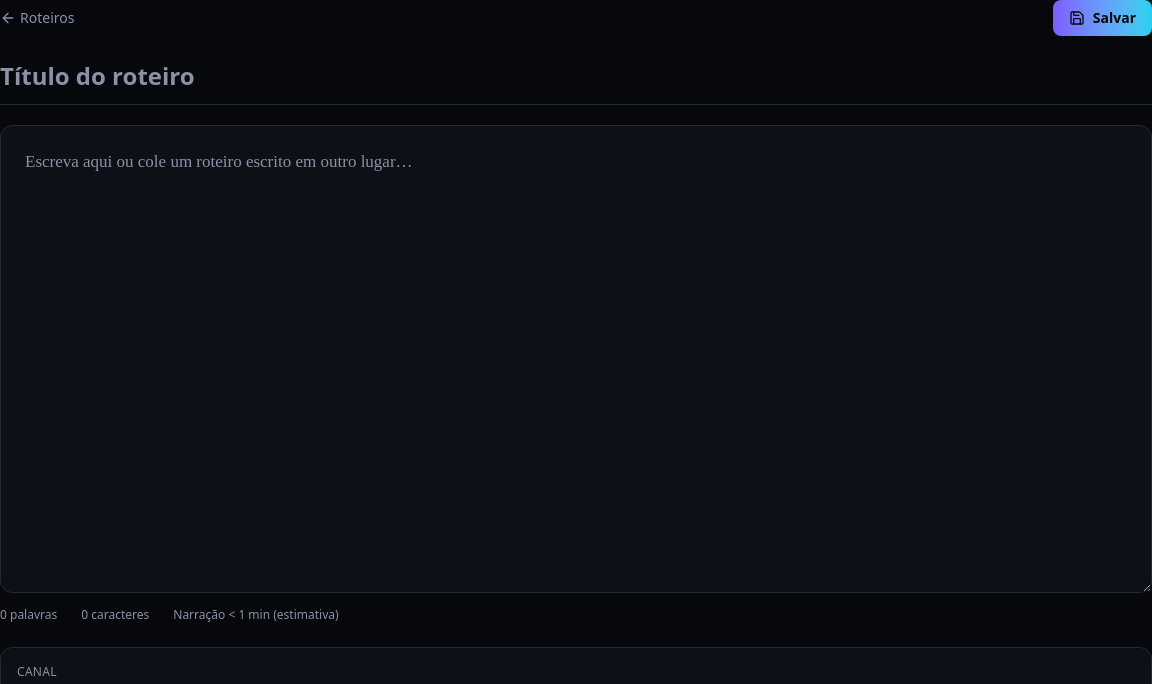
Test: ScriptEditor › impede aprovar roteiro vazio
Type "Vazio" into the field labelled "Título" at (576, 82), box [0,60,1151,105]
(page scrolled)
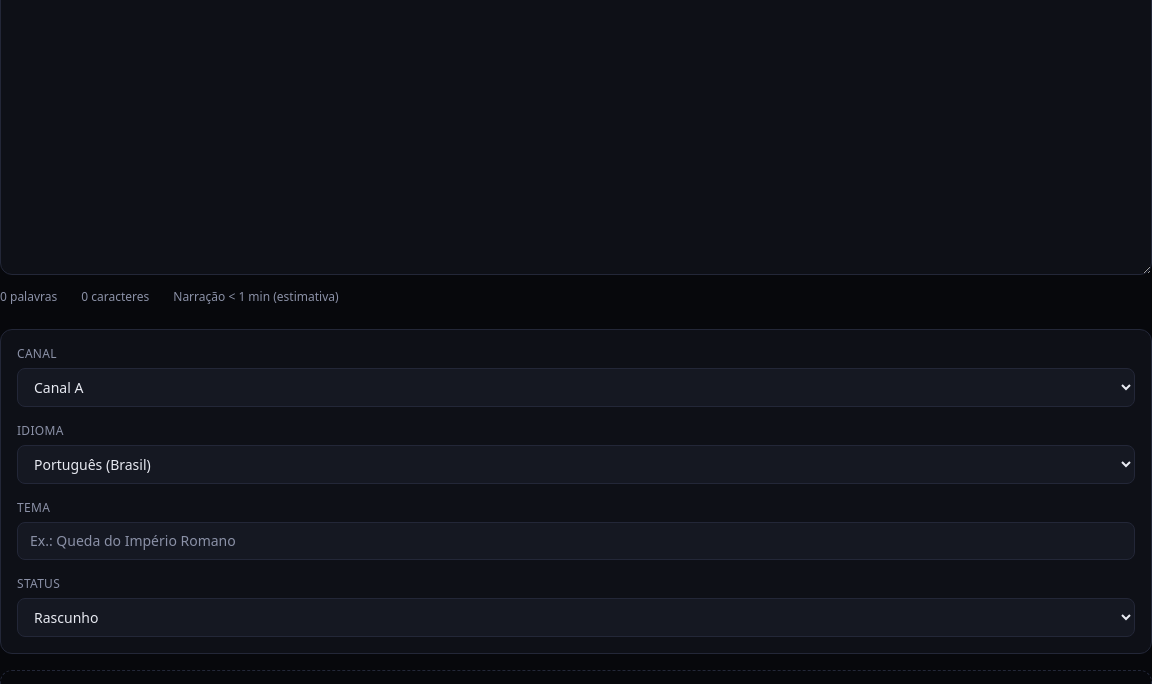
Select "Aprovado" in the dropdown labelled "Status" at (576, 618), box [17,598,1135,637]
(page scrolled)
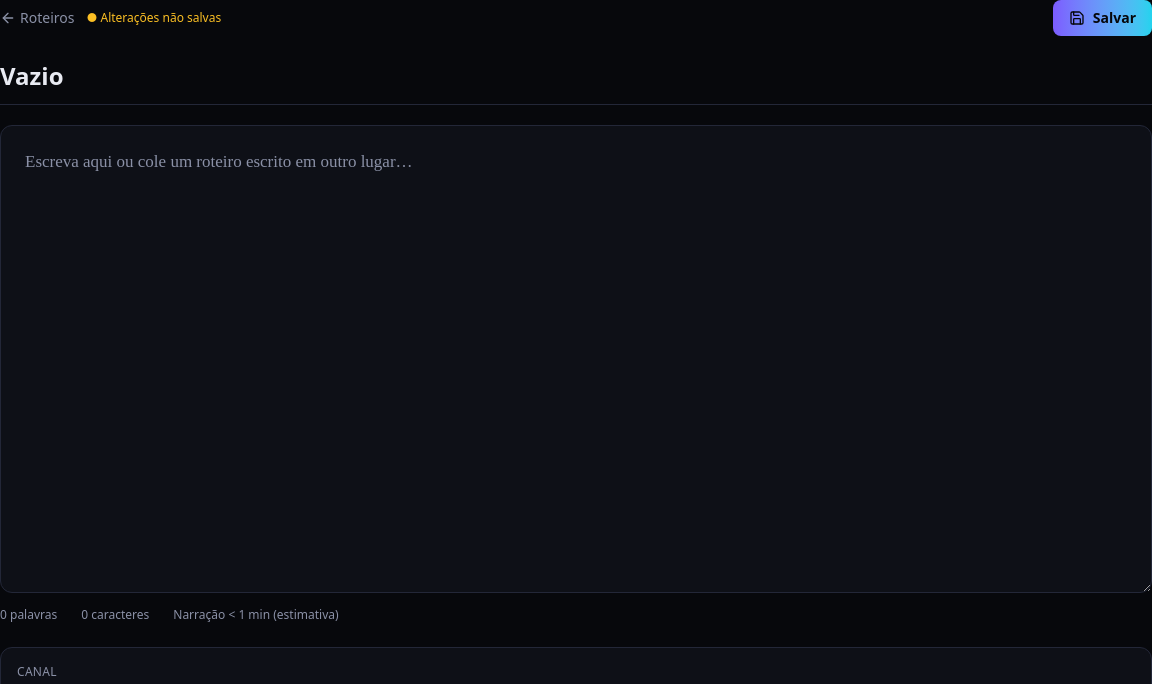
Click the button "Salvar" at (1102, 18), box [1053,0,1151,36]
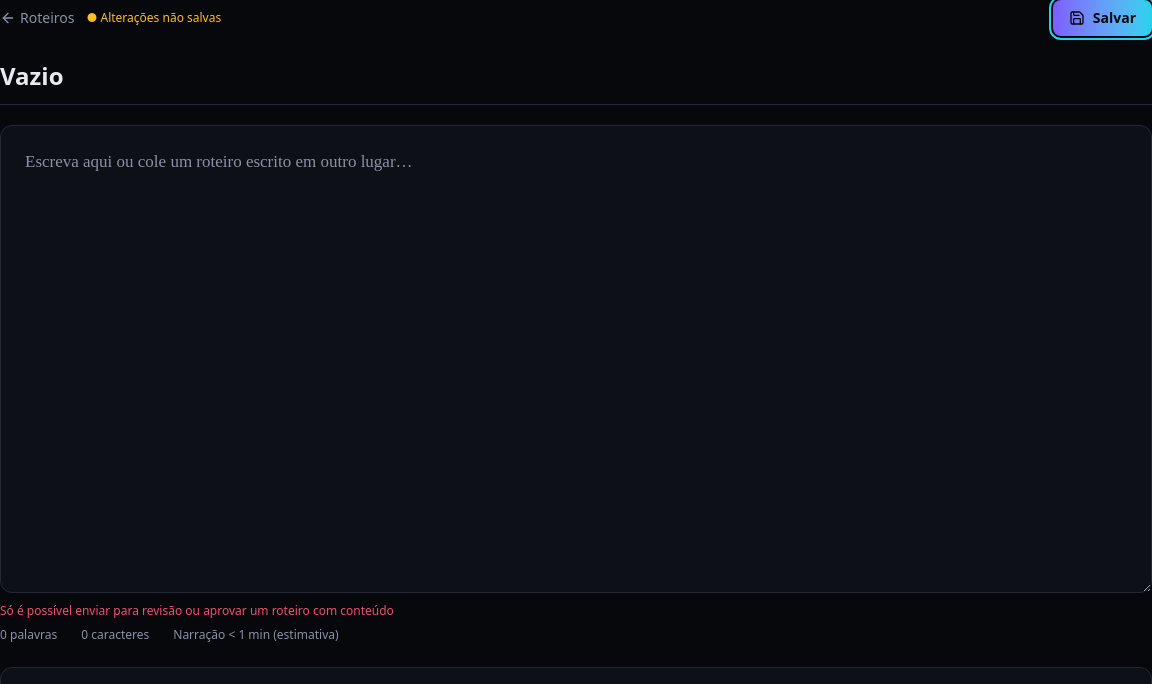
Now the text "Só é possível enviar para revisão ou aprovar" is shown, box [0,602,394,619]
